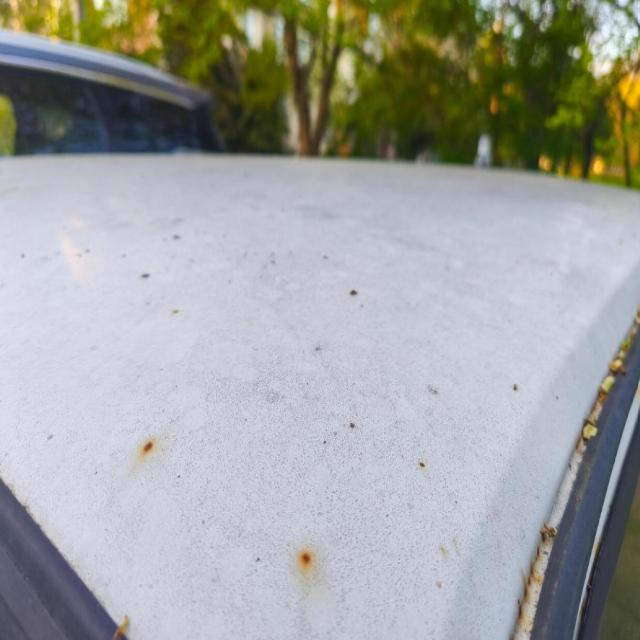Rust: (105, 399, 195, 515), (350, 289, 357, 296)
